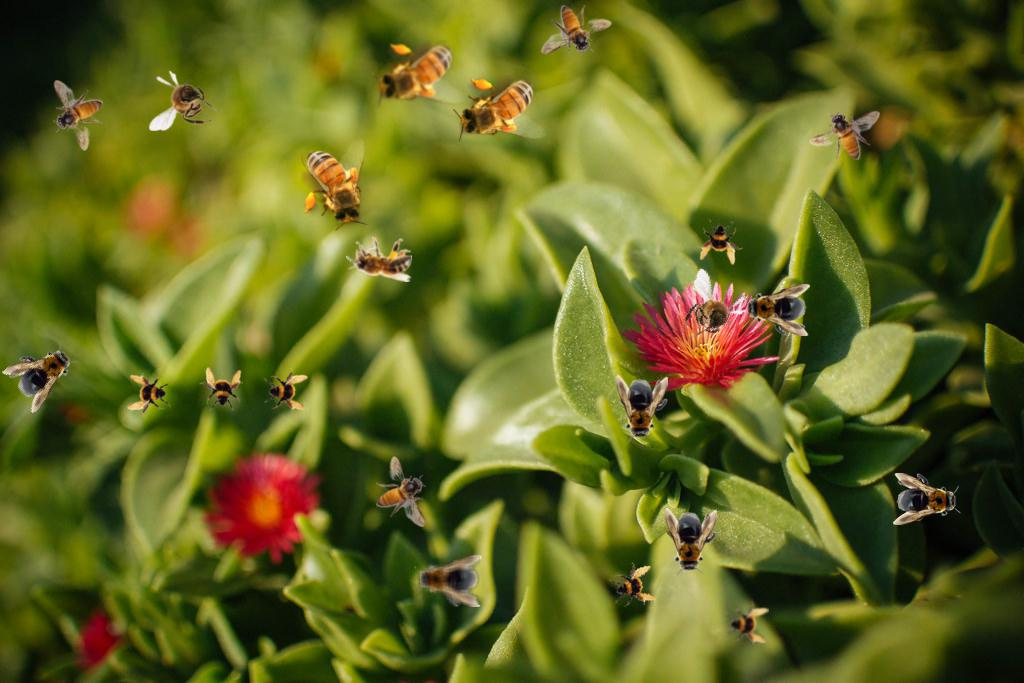Bee: (671, 267, 756, 357), (0, 330, 86, 414), (372, 40, 465, 108), (301, 138, 369, 231), (453, 75, 546, 143), (149, 70, 219, 131), (541, 5, 612, 55), (376, 456, 426, 527), (809, 110, 880, 160), (53, 80, 103, 151), (616, 375, 668, 443), (665, 508, 717, 576), (414, 555, 482, 607), (893, 473, 961, 525), (742, 284, 810, 336), (346, 237, 412, 282), (606, 558, 660, 612), (697, 218, 745, 266), (127, 373, 171, 417), (199, 367, 243, 411), (264, 368, 308, 412), (725, 601, 769, 645)
